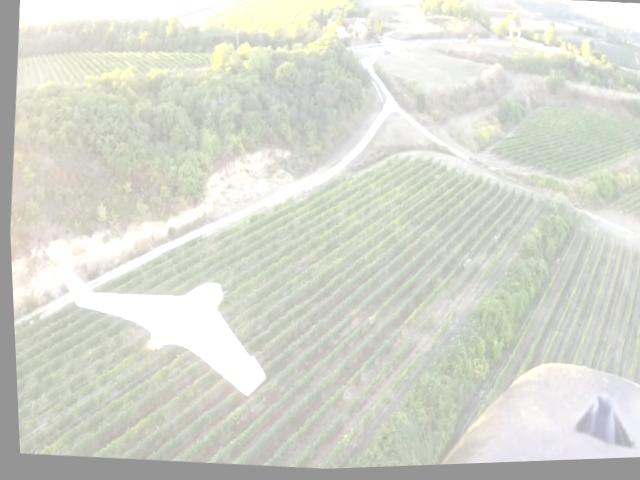plane: (51, 263, 270, 406)
